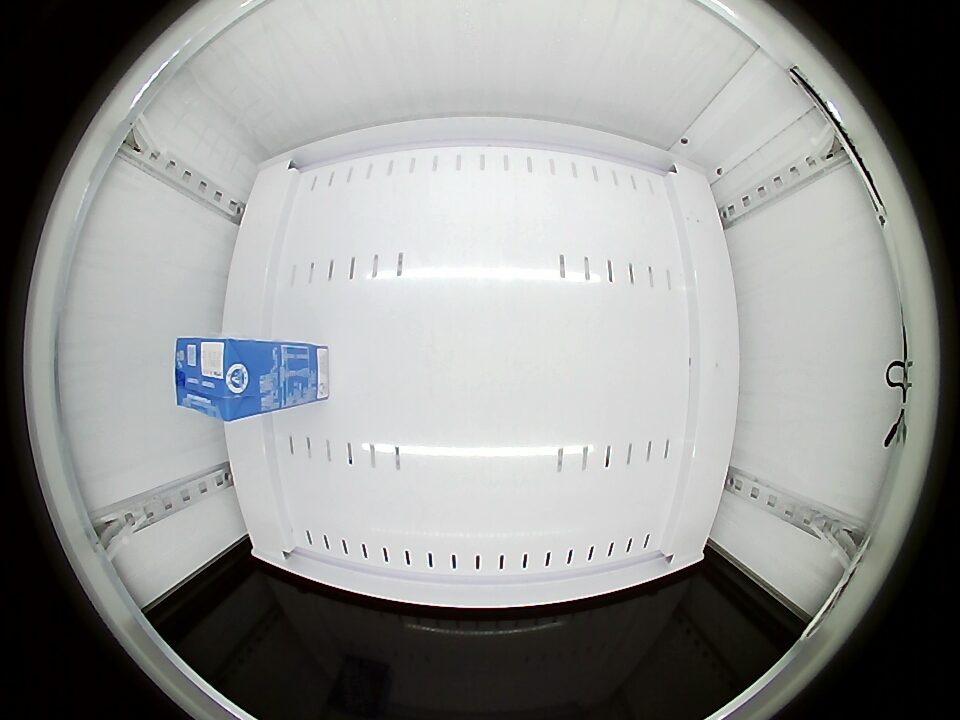weitanai: (174, 337, 271, 421)
